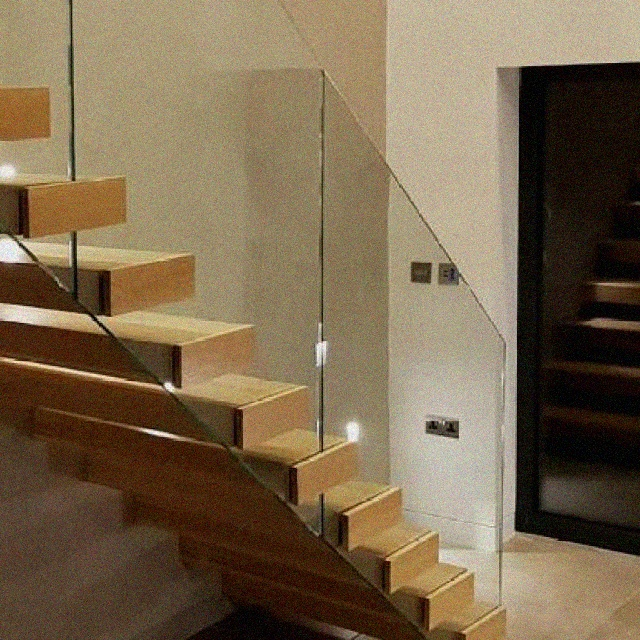stair: (0, 55, 526, 639)
